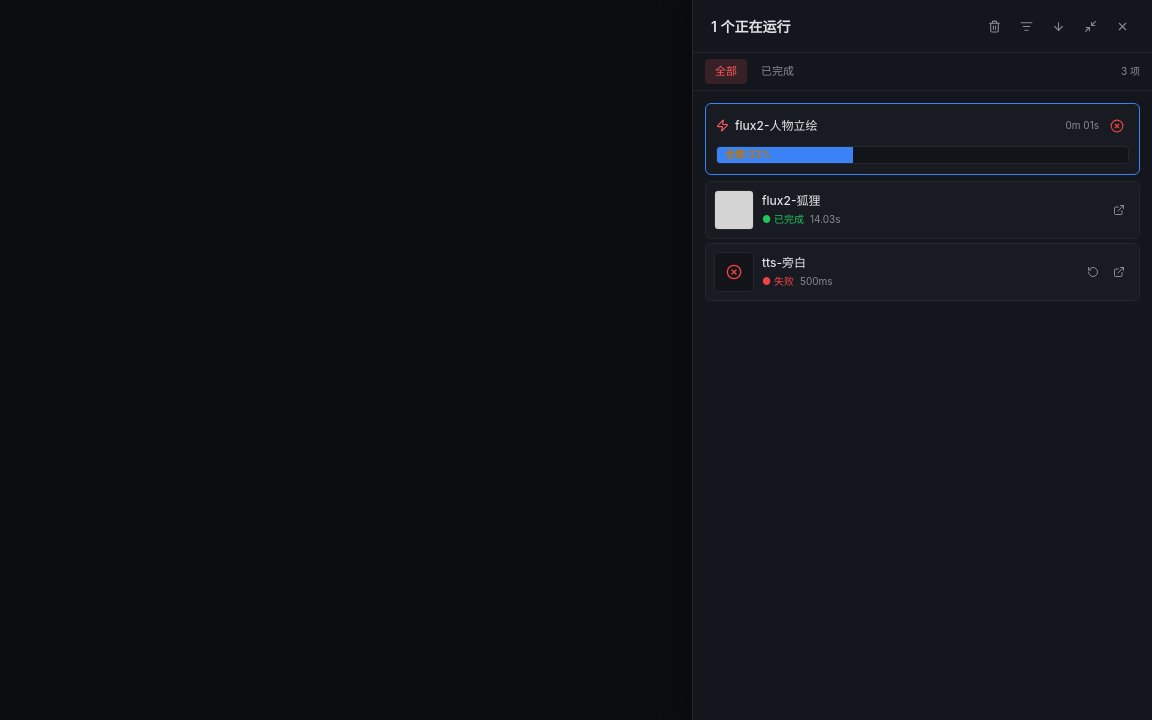
Scenario: TaskPanel — ComfyUI 对齐(PR-5) › mode 切换按钮(dock↔float)更新 panel store
The image size is (1152, 720).
Click the button named "切换浮窗" at point(1090, 26), box x1=1078 y1=14 x2=1102 y2=38
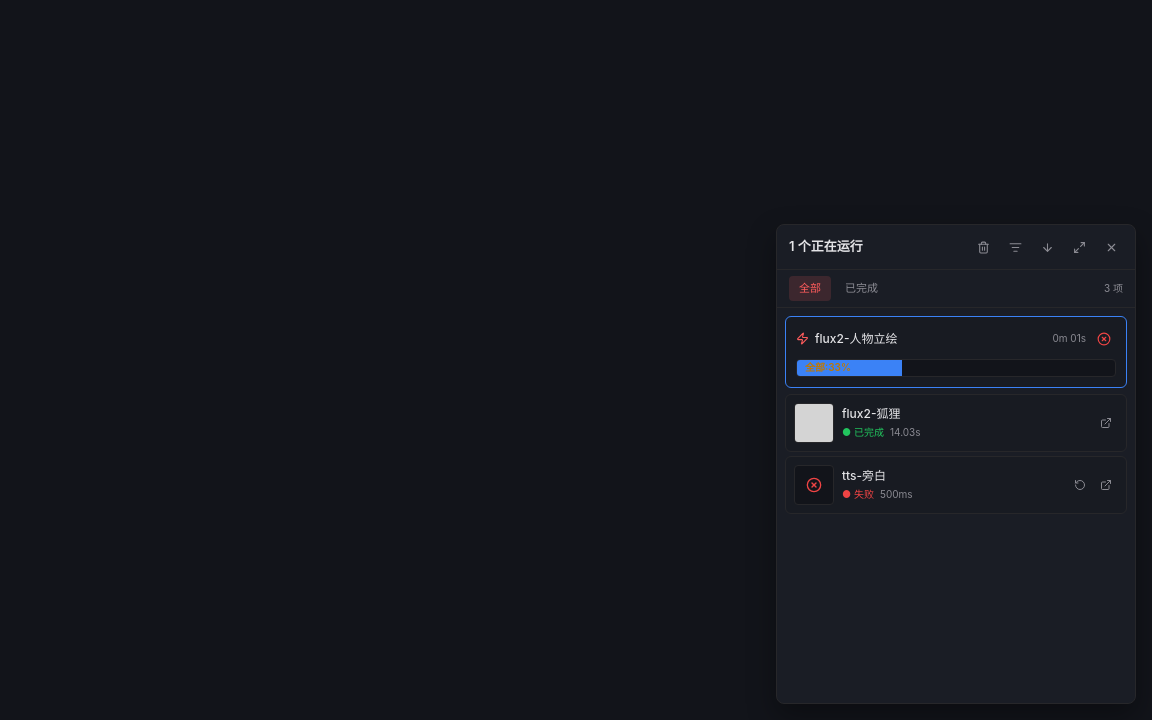
Now the button named "切换停靠" is shown, box x1=1067 y1=235 x2=1091 y2=259
